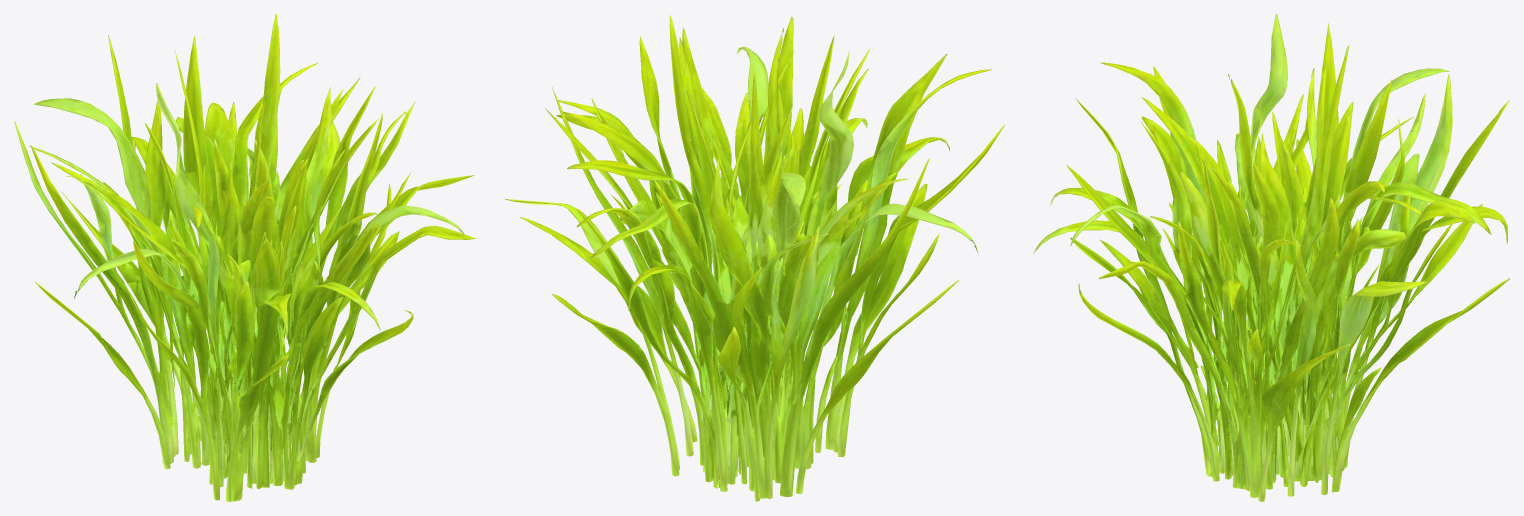
File: rice-seedling.glb
The picture shows the model from 3 angles, left to right: view 1: azimuth 30°, elevation 25°; view 2: azimuth 150°, elevation 25°; view 3: azimuth 270°, elevation 25°; orthographic projection. The views are drawn at different scales.
Parts seen in each view (by area): view 1: Mesh_0; view 2: Mesh_0; view 3: Mesh_0.
Part boxes in pixels (x1=…): Mesh_0: x1=14, y1=14, x2=476, y2=501; Mesh_0: x1=505, y1=15, x2=1004, y2=501; Mesh_0: x1=1033, y1=14, x2=1509, y2=501.
Size of the model in its own units: 0.199 by 0.2 by 0.1987.
1 material, 1 textured.
